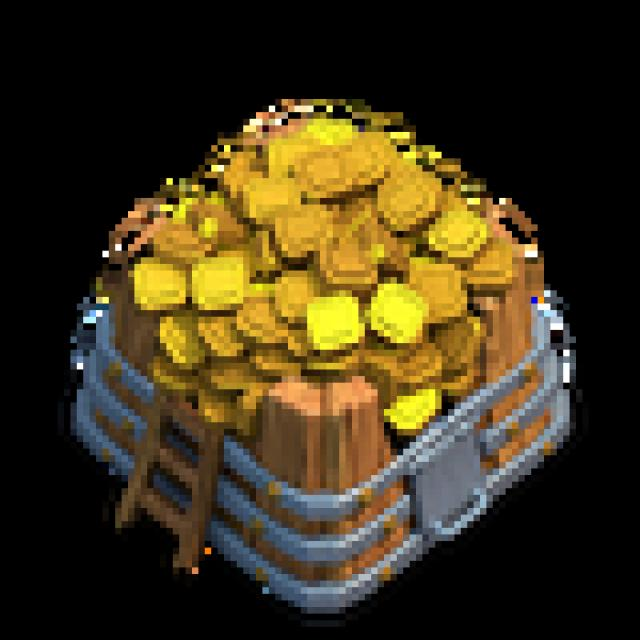gold_storage: (58, 88, 584, 631)
